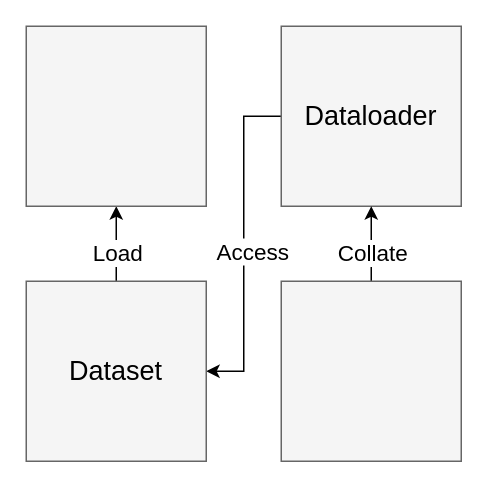
Some shapes in this 488 by 488 pixel diagram are drawn without their labels. Here are the shapes that lost their labels. From the top down, the centre of each, then its label:
At pixel 115 115: "Data".
At pixel 370 370: "CNN".
